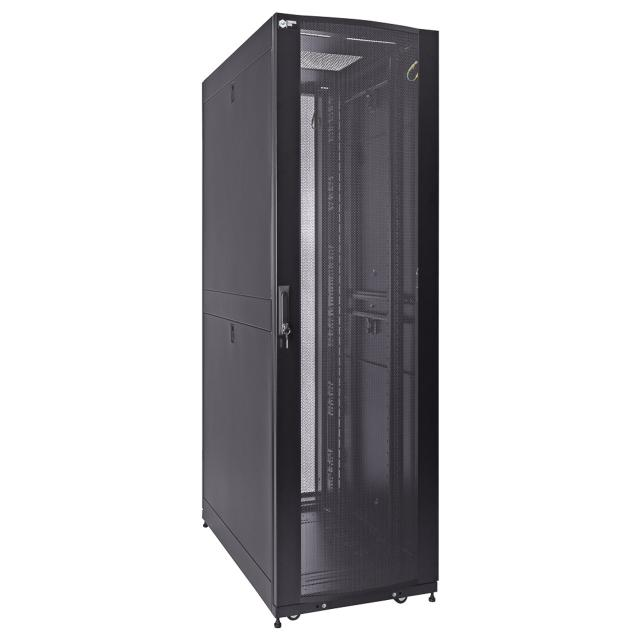Server: (195, 8, 442, 630)
